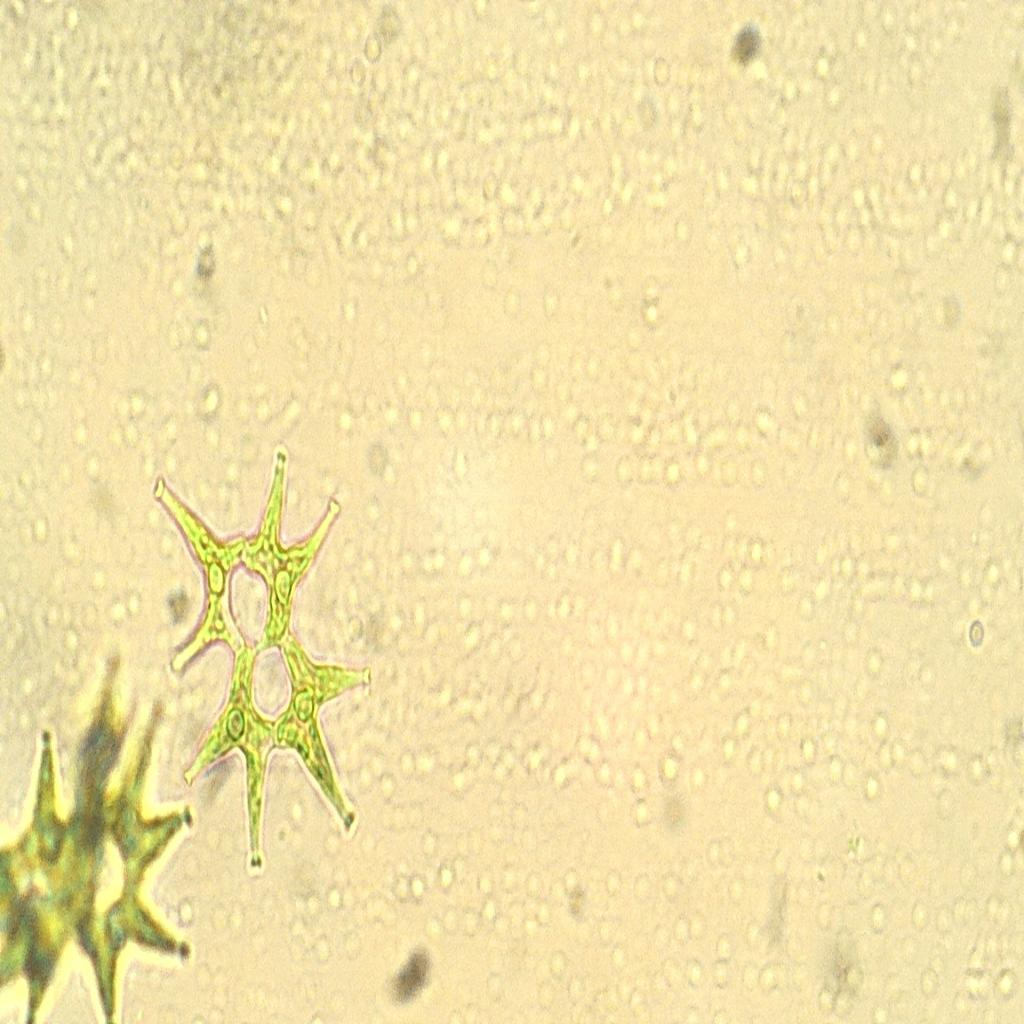Pediastrum_75FO: (146, 412, 387, 891)
